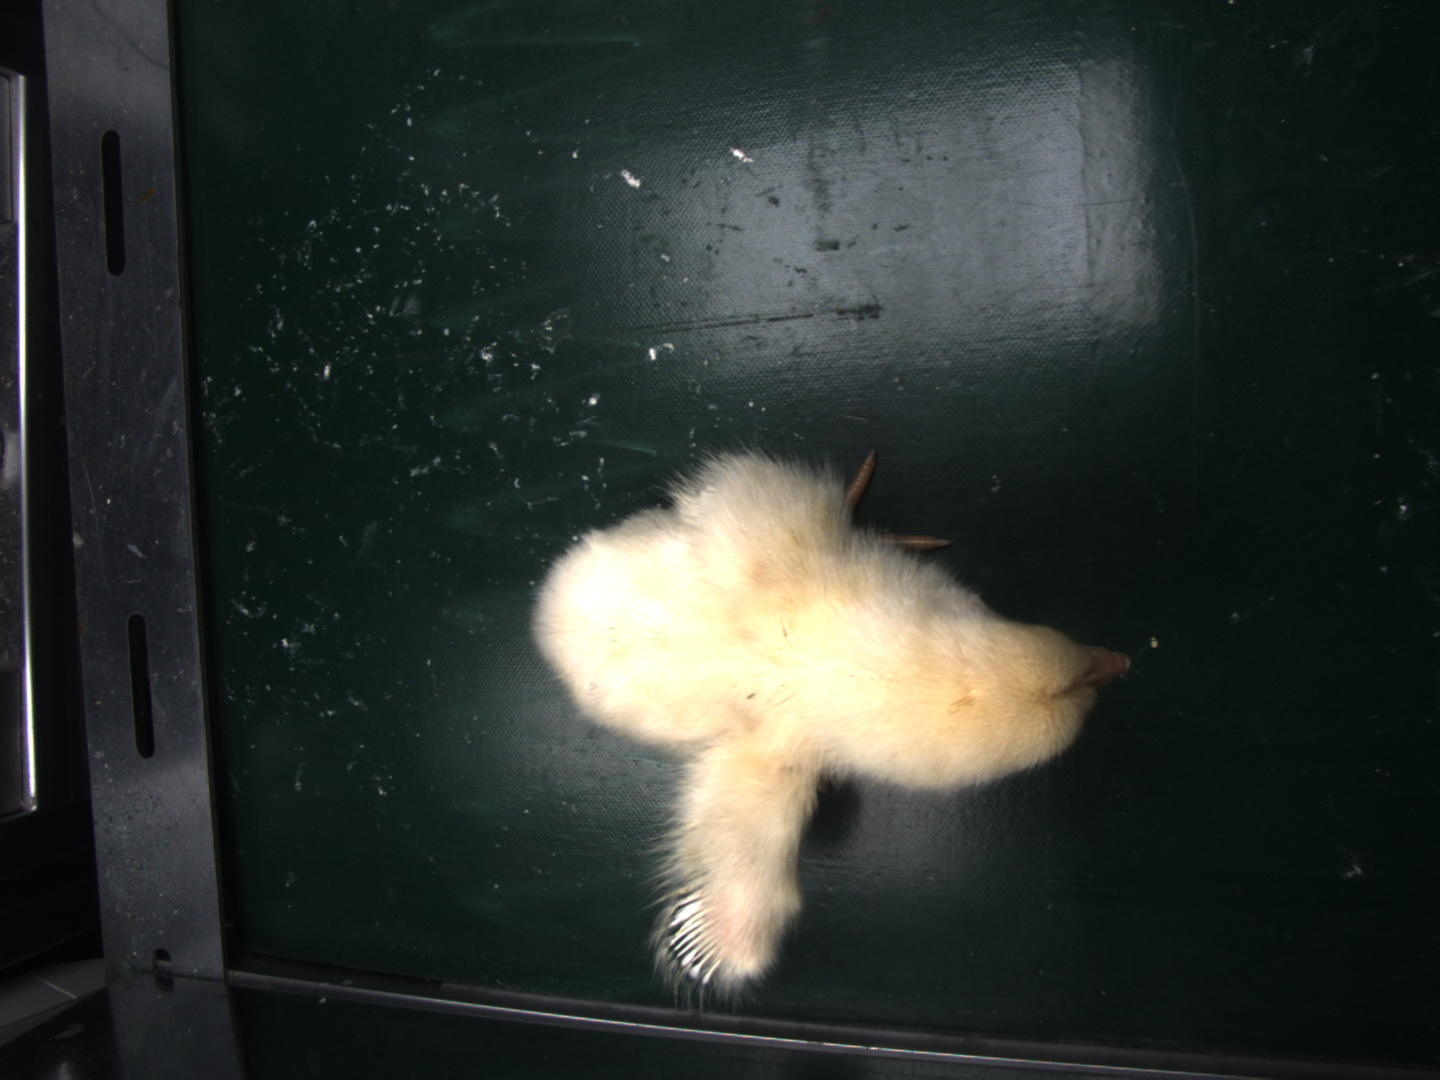male: (664, 887, 725, 988)
